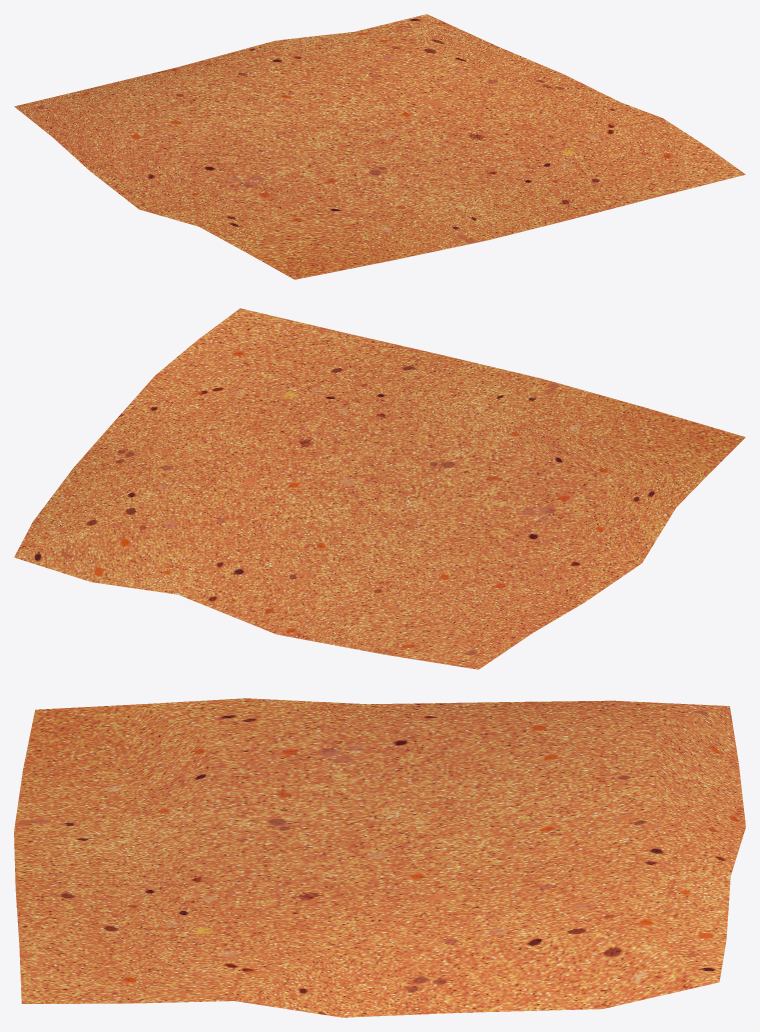
Rendered from Plane_TerrainSand.fbx.
3 renders of one model, top to bottom at view 1: azimuth 30°, elevation 25°; view 2: azimuth 150°, elevation 25°; view 3: azimuth 270°, elevation 25°, orthographic. The views are drawn at different scales.
Visible parts, largest first — view 1: Plane_TerrainSand.001; view 2: Plane_TerrainSand.001; view 3: Plane_TerrainSand.001.
Part boxes in pixels (x1,y1,x2,y2): Plane_TerrainSand.001: [14, 14, 745, 279]; Plane_TerrainSand.001: [14, 308, 745, 669]; Plane_TerrainSand.001: [14, 698, 745, 1017].
Bounding box in the file's own units: 808 × 825 × 33.64.
1 material, 1 textured.
